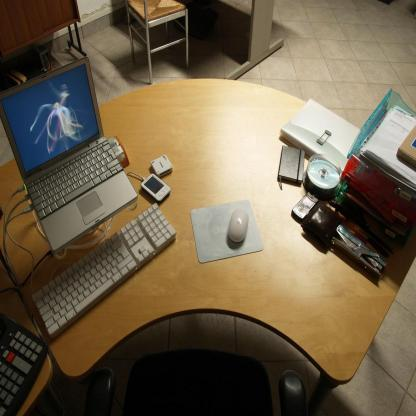board: (12, 41, 130, 256)
